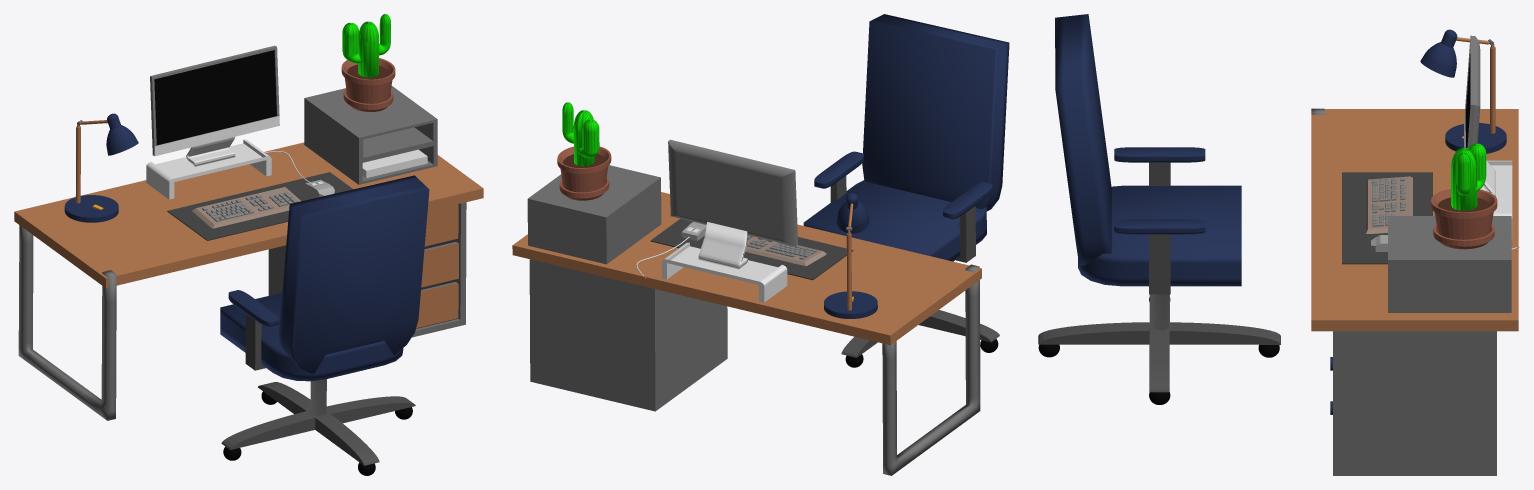
Rendered from NEWBACKcv.gltf.
3 renders of one model, left to right at view 1: azimuth 30°, elevation 25°; view 2: azimuth 150°, elevation 25°; view 3: azimuth 270°, elevation 25°, orthographic. The views are drawn at different scales.
Parts seen in each view (by area): view 1: Cube.001, Cube.007, Plane.001, Cube.012, Cube.009, Cube.006, Cube.008, Cube, Cube.021, Cube.010, Cylinder.008, Cylinder.004 (+9 smaller); view 2: Cube.001, Cube.009, Cube.007, Plane.001, Cube.012, Cube, Cube.008, Cube.010, Cylinder.008, Cube.021, Cylinder.004, Cube.011 (+8 smaller); view 3: Cube.009, Cube.007, Cube, Cube.012, Cube.001, Cube.006, Cube.021, Cylinder.004, Cylinder.008, Plane.001, Cube.004, Cube.005 (+8 smaller).
Boxes of the visible parts, <box> form: Cube.001: <box>278,175,429,373</box>; Cube.007: <box>14,142,483,287</box>; Plane.001: <box>150,45,279,156</box>; Cube.012: <box>304,86,437,184</box>; Cube.009: <box>268,202,466,337</box>; Cube.006: <box>221,382,415,465</box>; Cube.008: <box>18,225,116,420</box>; Cube: <box>220,293,403,381</box>; Cube.021: <box>167,172,353,240</box>; Cube.010: <box>146,139,271,199</box>; Cylinder.008: <box>64,113,138,222</box>; Cylinder.004: <box>341,58,395,111</box>; Cube.001: <box>862,14,1009,211</box>; Cube.009: <box>529,259,727,411</box>; Cube.007: <box>512,192,981,345</box>; Plane.001: <box>668,139,798,246</box>; Cube.012: <box>527,165,661,264</box>; Cube: <box>803,180,986,261</box>; Cube.008: <box>882,264,980,475</box>; Cube.010: <box>661,242,787,302</box>; Cylinder.008: <box>824,193,877,318</box>; Cube.021: <box>650,218,853,280</box>; Cylinder.004: <box>557,146,611,200</box>; Cube.011: <box>698,222,747,269</box>; Cube.009: <box>1333,331,1496,475</box>; Cube.007: <box>1311,109,1518,331</box>; Cube: <box>1078,185,1241,286</box>; Cube.012: <box>1388,216,1511,312</box>; Cube.001: <box>1055,14,1111,266</box>; Cube.006: <box>1038,294,1280,392</box>; Cube.021: <box>1342,172,1432,264</box>; Cylinder.004: <box>1431,189,1497,249</box>; Cylinder.008: <box>1420,29,1506,153</box>; Plane.001: <box>1464,35,1480,148</box>; Cube.004: <box>1114,147,1205,162</box>; Cube.005: <box>1114,219,1205,234</box>.
Bounding box in the file's own units: 6.04 × 4.24 × 5.88.
